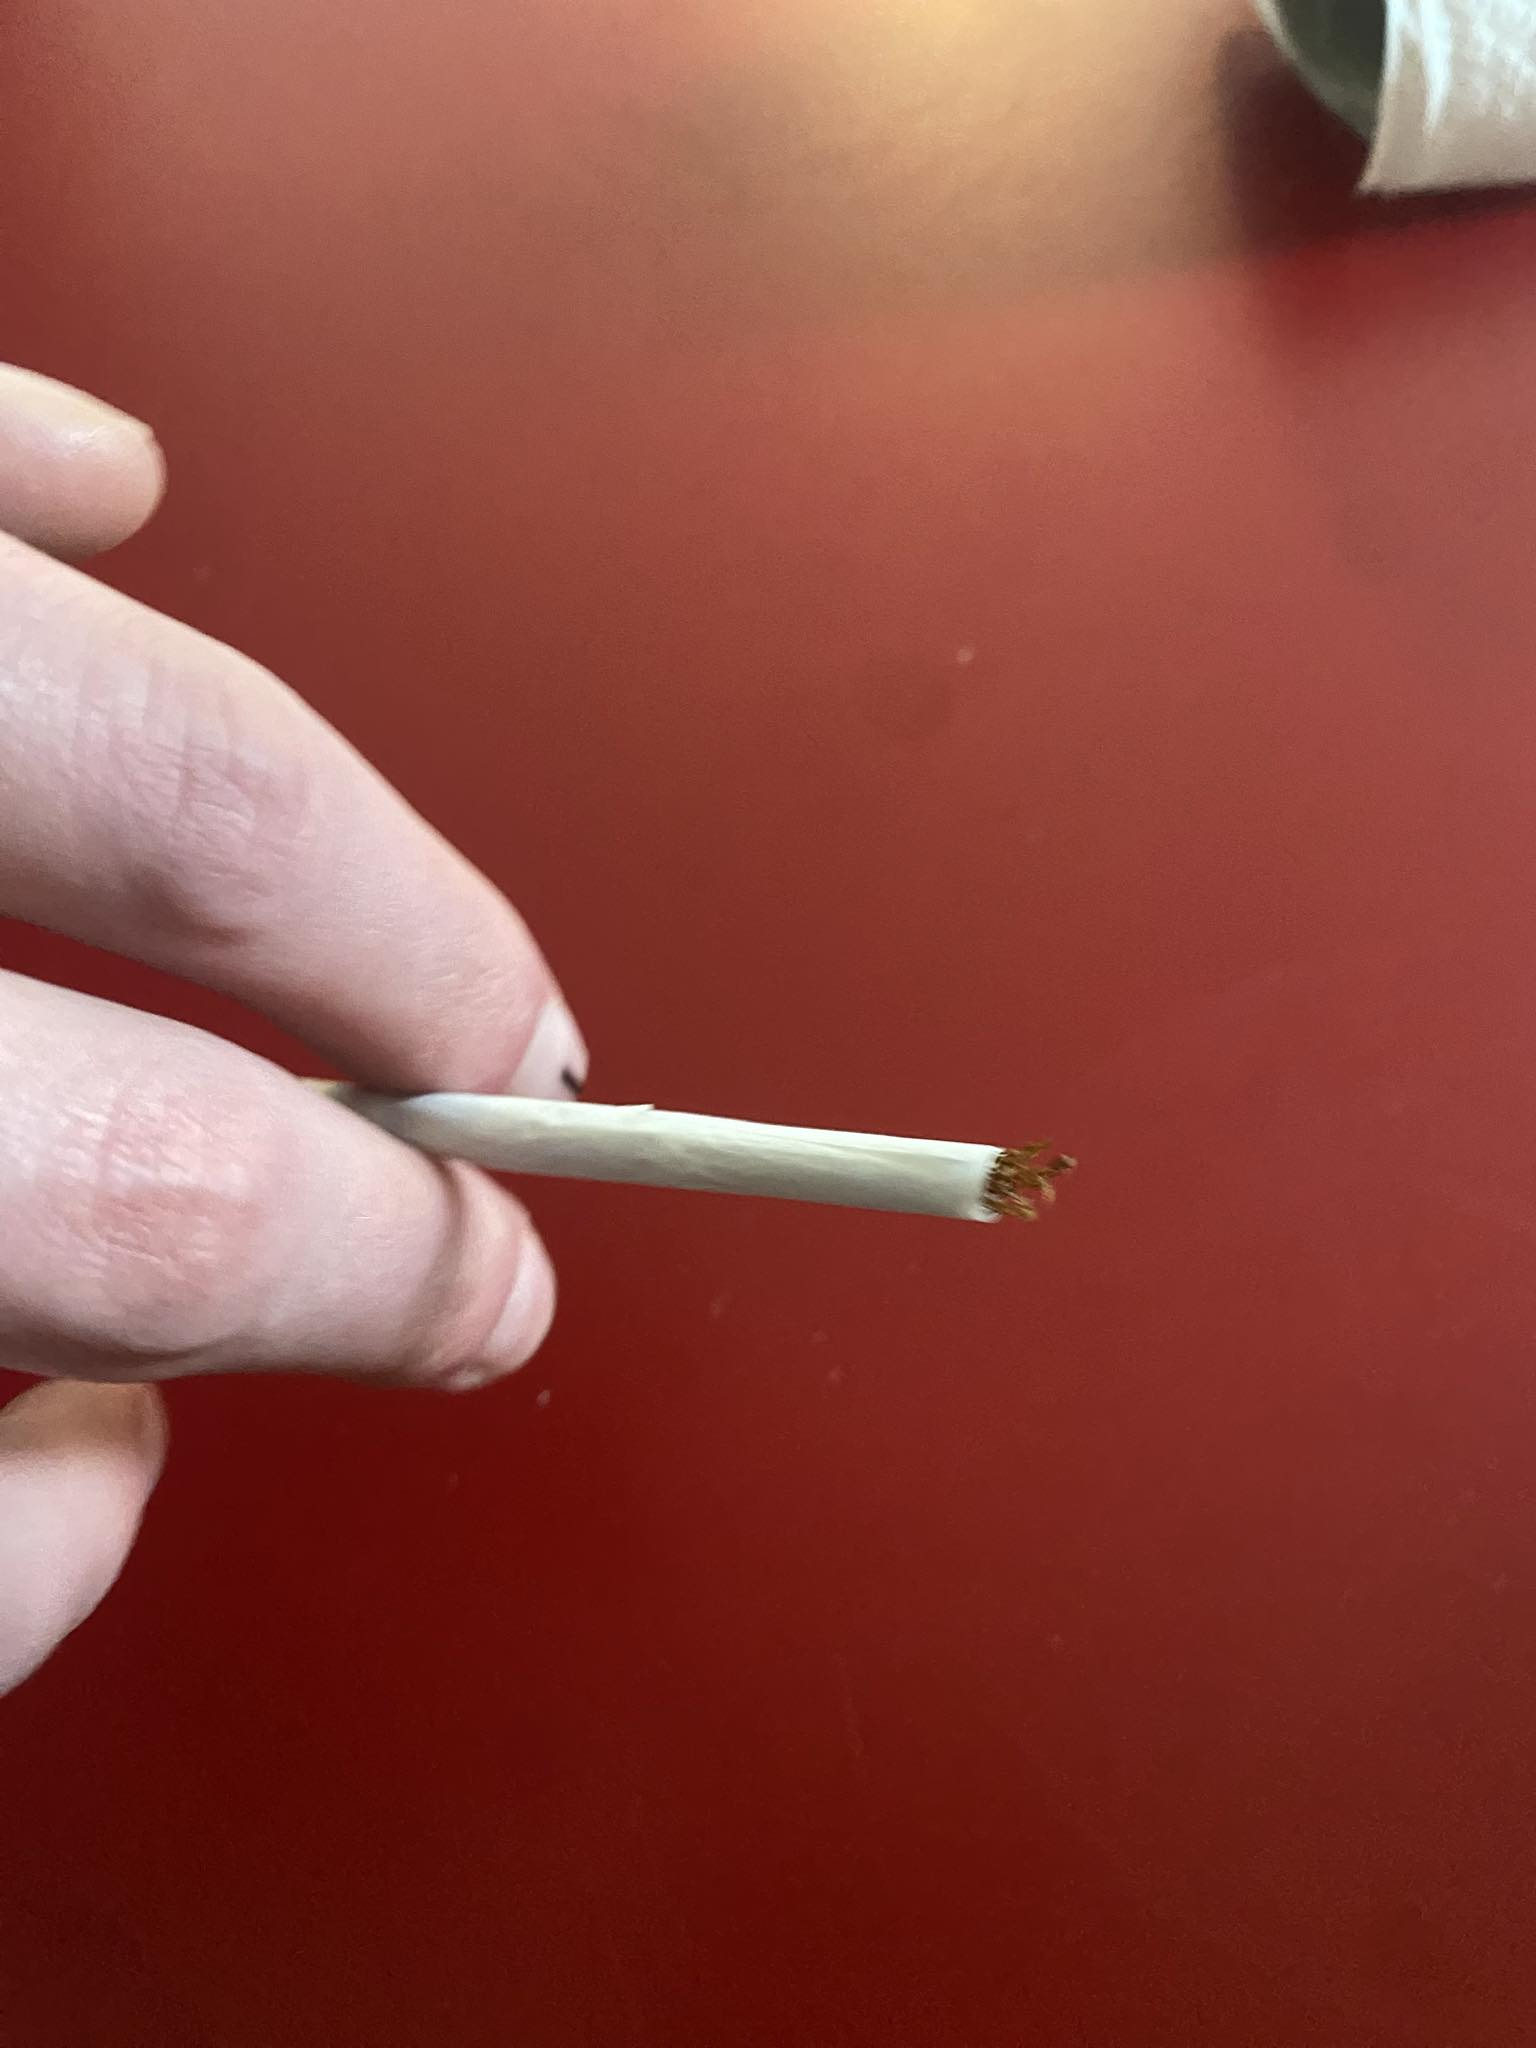Cigarette: (331, 1077, 1079, 1224)
